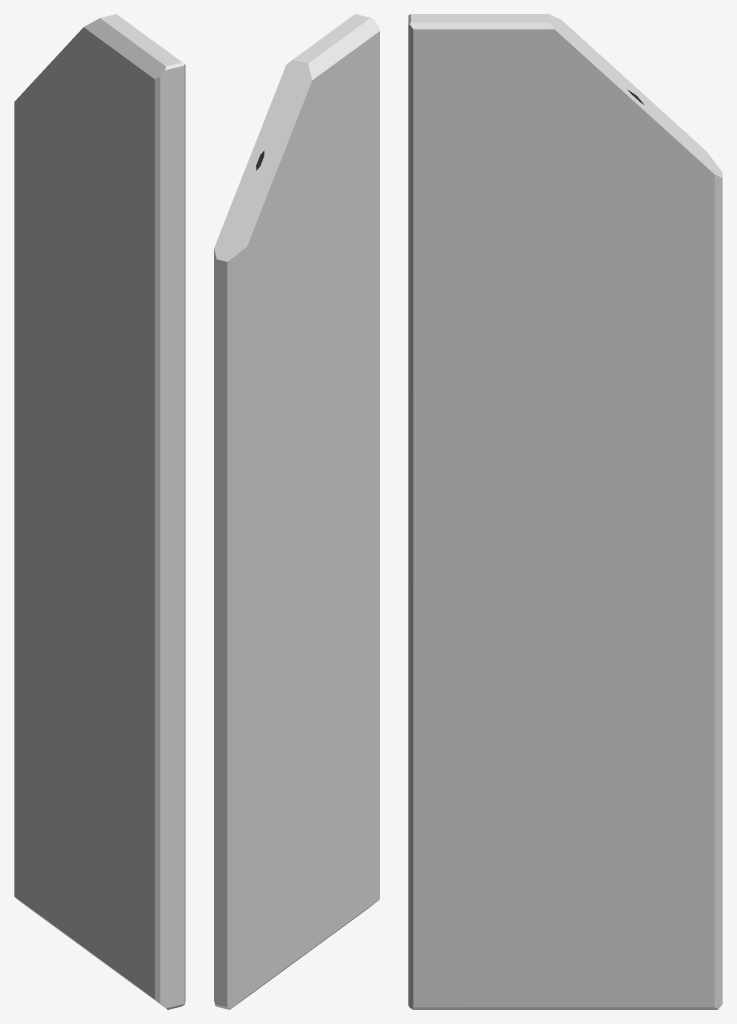
File: SM_gate_02.fbx
3 views of the same model, side by side, from view 1: azimuth 30°, elevation 25°; view 2: azimuth 150°, elevation 25°; view 3: azimuth 270°, elevation 25° (orthographic). The views are drawn at different scales.
Visible parts, largest first — view 1: SM_gate_02_ConvexHulls; view 2: SM_gate_02_ConvexHulls; view 3: SM_gate_02_ConvexHulls.
Boxes of the visible parts, x1,y1,x2,y2 form: SM_gate_02_ConvexHulls: (14,14,185,1009); SM_gate_02_ConvexHulls: (214,14,379,1009); SM_gate_02_ConvexHulls: (408,14,722,1009).
Size of the model in its own units: 14.95 by 125 by 432.
